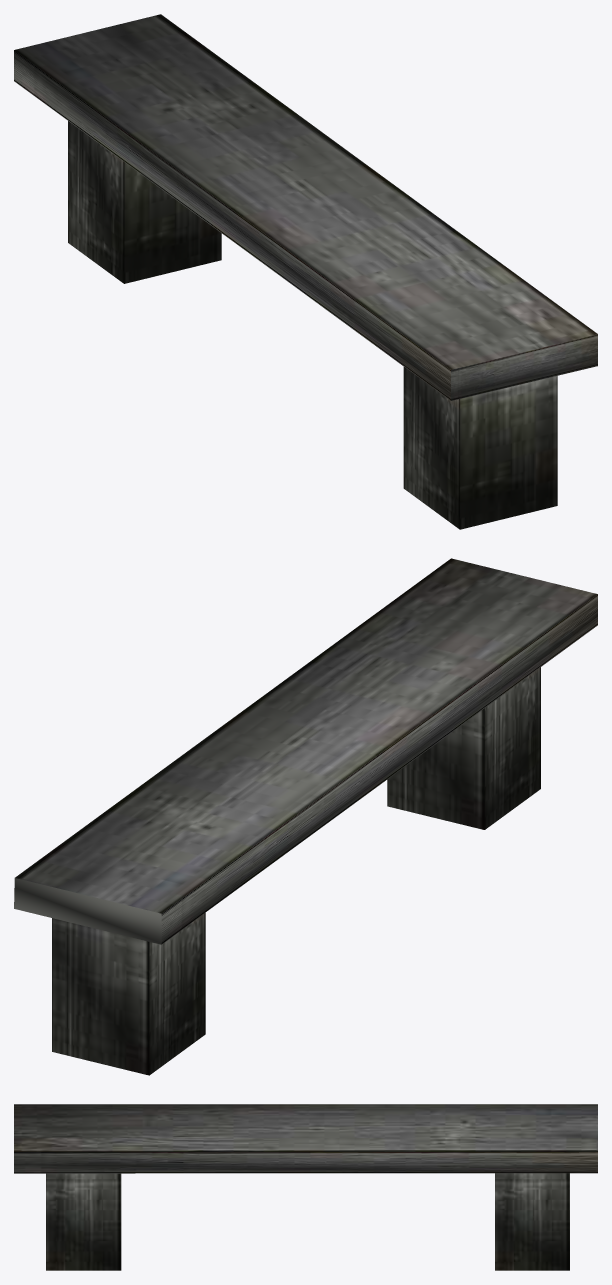
The model's file is bench-03.obj.
3 renders of one model, top to bottom at view 1: azimuth 30°, elevation 25°; view 2: azimuth 150°, elevation 25°; view 3: azimuth 270°, elevation 25°, orthographic. The views are drawn at different scales.
Size of the model in its own units: 0.3908 by 0.4689 by 2.
Materials: 1 (1 with a texture image).
